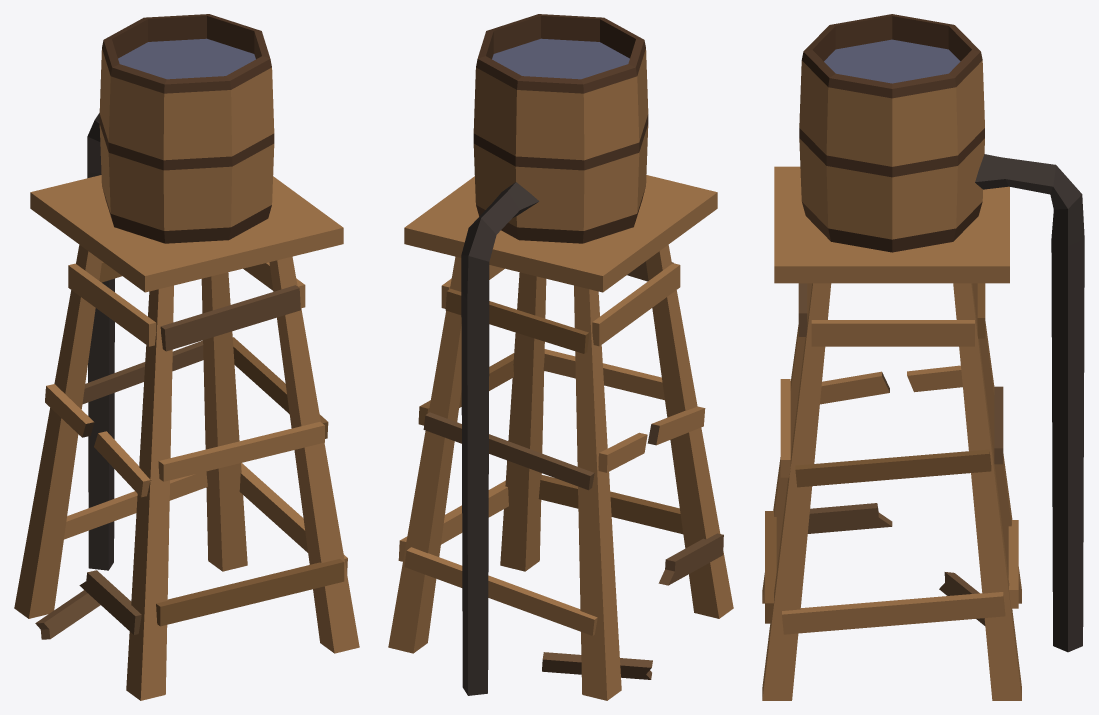
Rendered from WaterTower.glb.
3 renders of one model, left to right at view 1: azimuth 30°, elevation 25°; view 2: azimuth 150°, elevation 25°; view 3: azimuth 270°, elevation 25°, orthographic. The views are drawn at different scales.
Parts seen in each view (by area): view 1: WaterTower2; view 2: WaterTower2; view 3: WaterTower2.
Part boxes in pixels (x1=…): WaterTower2: x1=14, y1=14, x2=359, y2=700; WaterTower2: x1=388, y1=14, x2=733, y2=700; WaterTower2: x1=762, y1=14, x2=1084, y2=700.
Bounding box in the file's own units: 3.18 × 7.69 × 3.75.
Materials: 3 (3 with a texture image).
